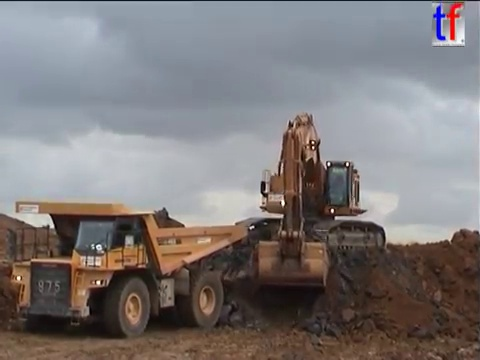excavator: (231, 110, 389, 291)
truck: (3, 199, 250, 340)
